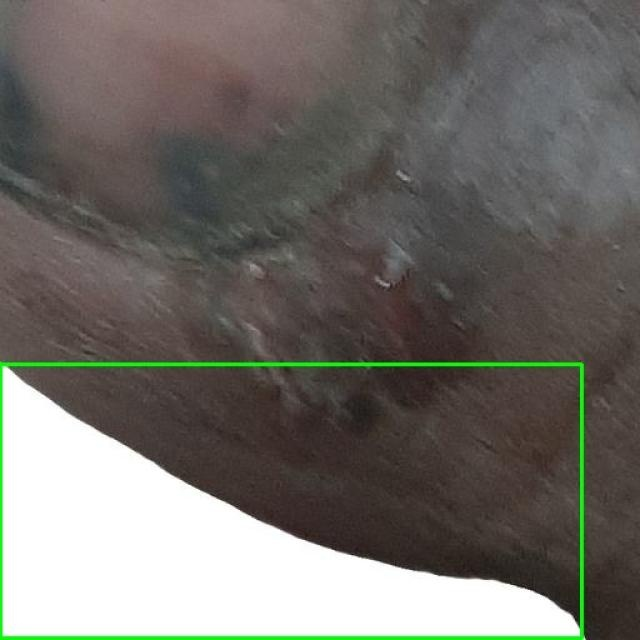Eczema: (0, 365, 582, 639)
